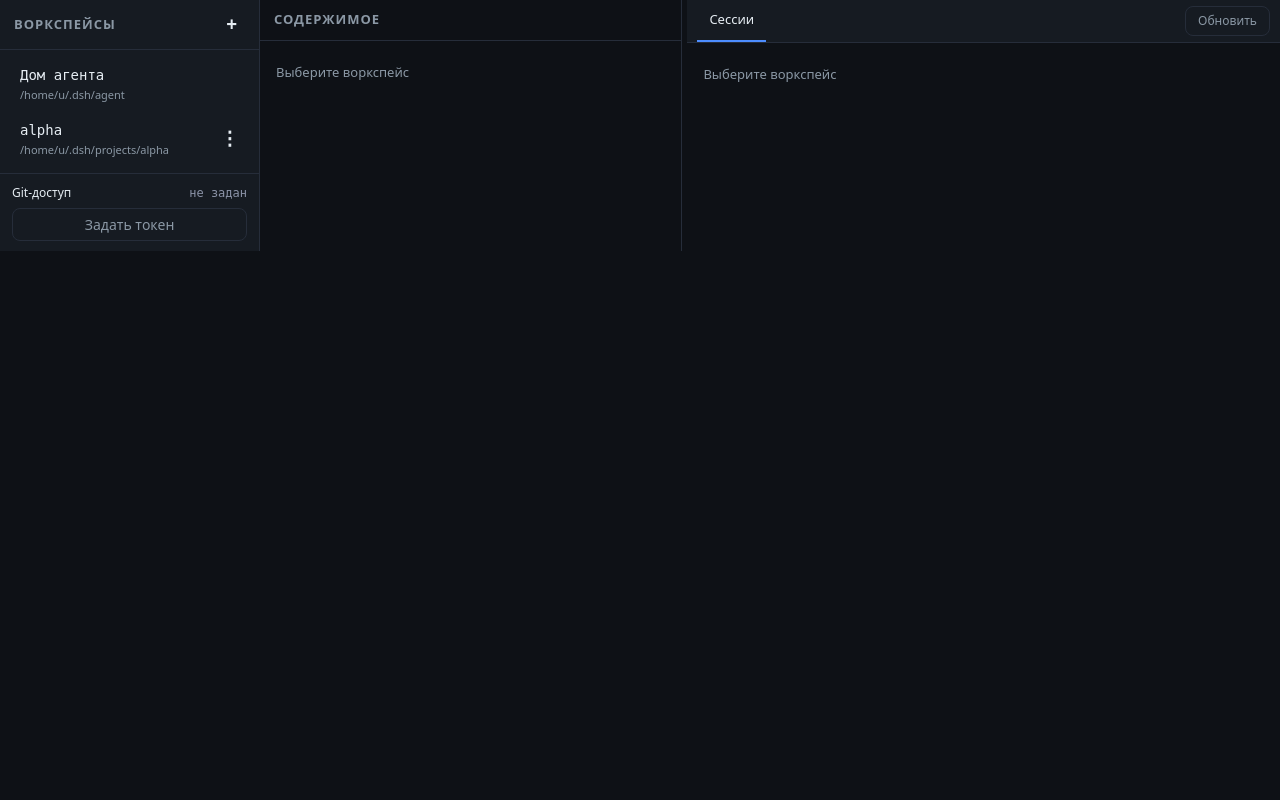
Test case: WorkspacesPage create/delete flows › deletes a project through the menu and confirm modal, deselecting it
Click the button with test id "ws-row-project:alpha" at x=107, y=139, box [8,112,206,165]
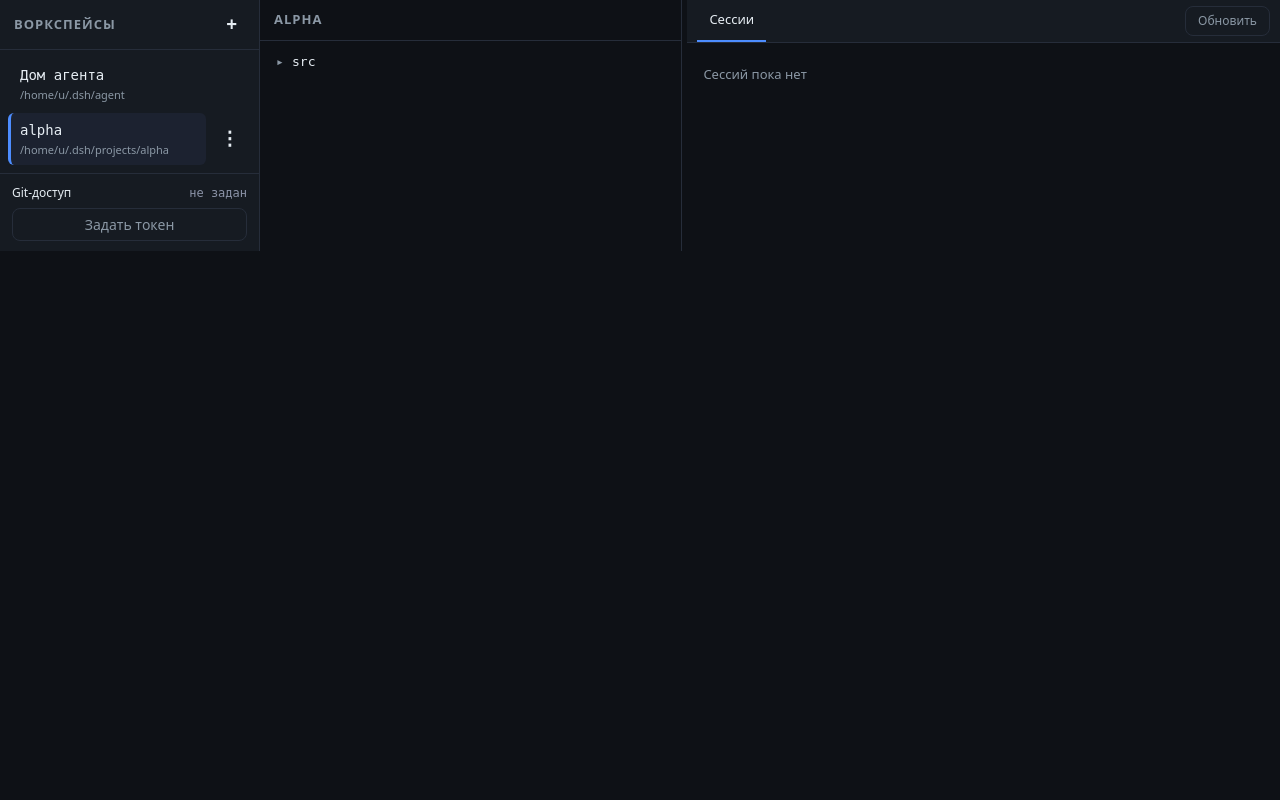
Check: the text "src" is shown, box [292,52,316,71]
Click the button with test id "ws-menu-project:alpha" at x=230, y=139, box [212,124,247,153]
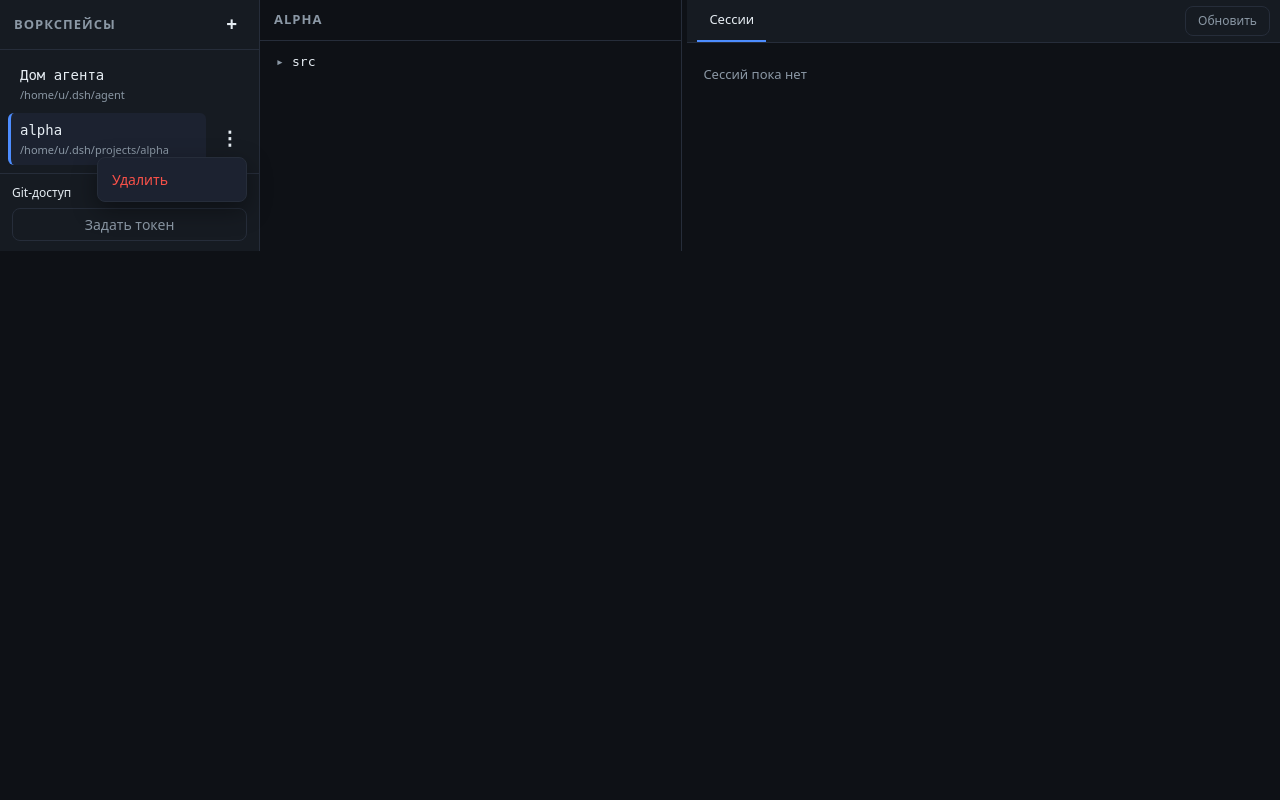
Click the button with test id "ws-delete-alpha" at x=172, y=180, box [102,162,242,197]
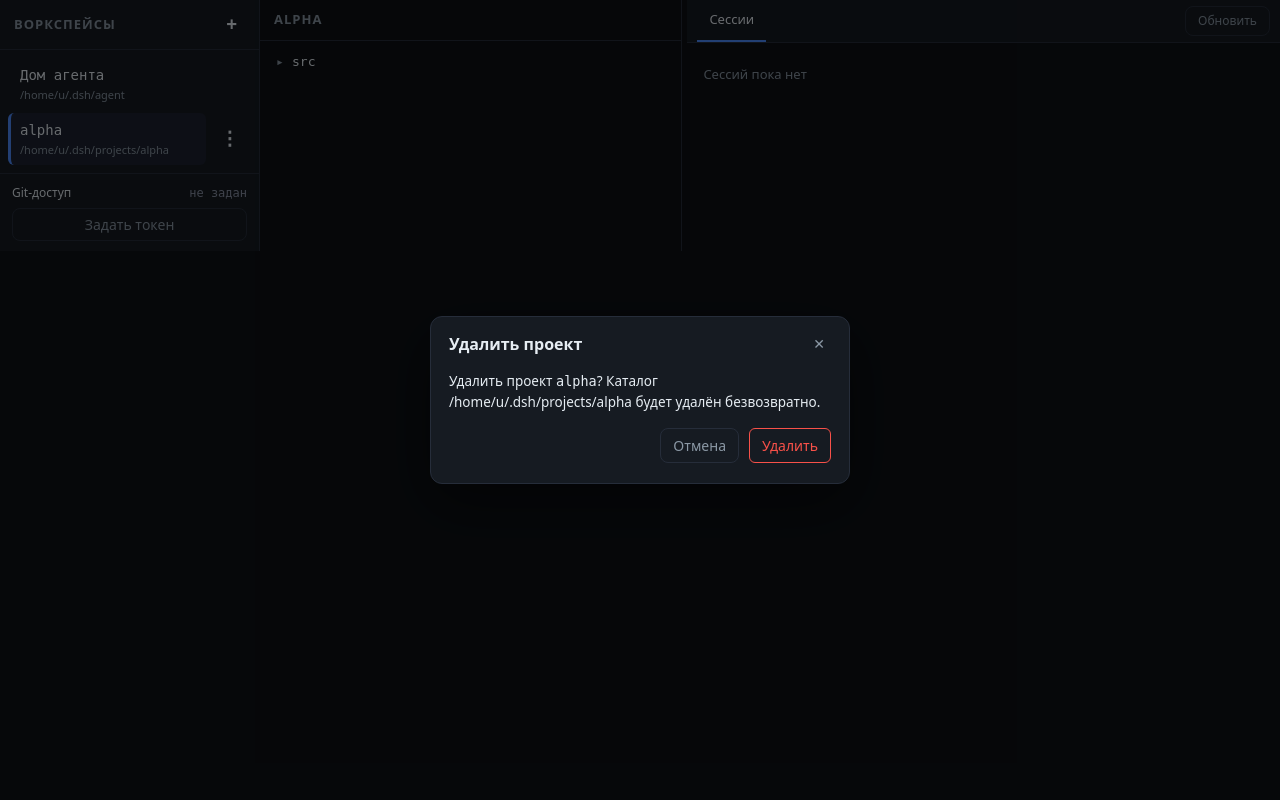
Check: the heading "Удалить проект" is shown, box [449,332,582,356]
Check: the text "безвозвратно" is shown, box [632,392,820,410]
Click the button with test id "workspace-delete-alpha" at x=790, y=445, box [749,428,831,463]
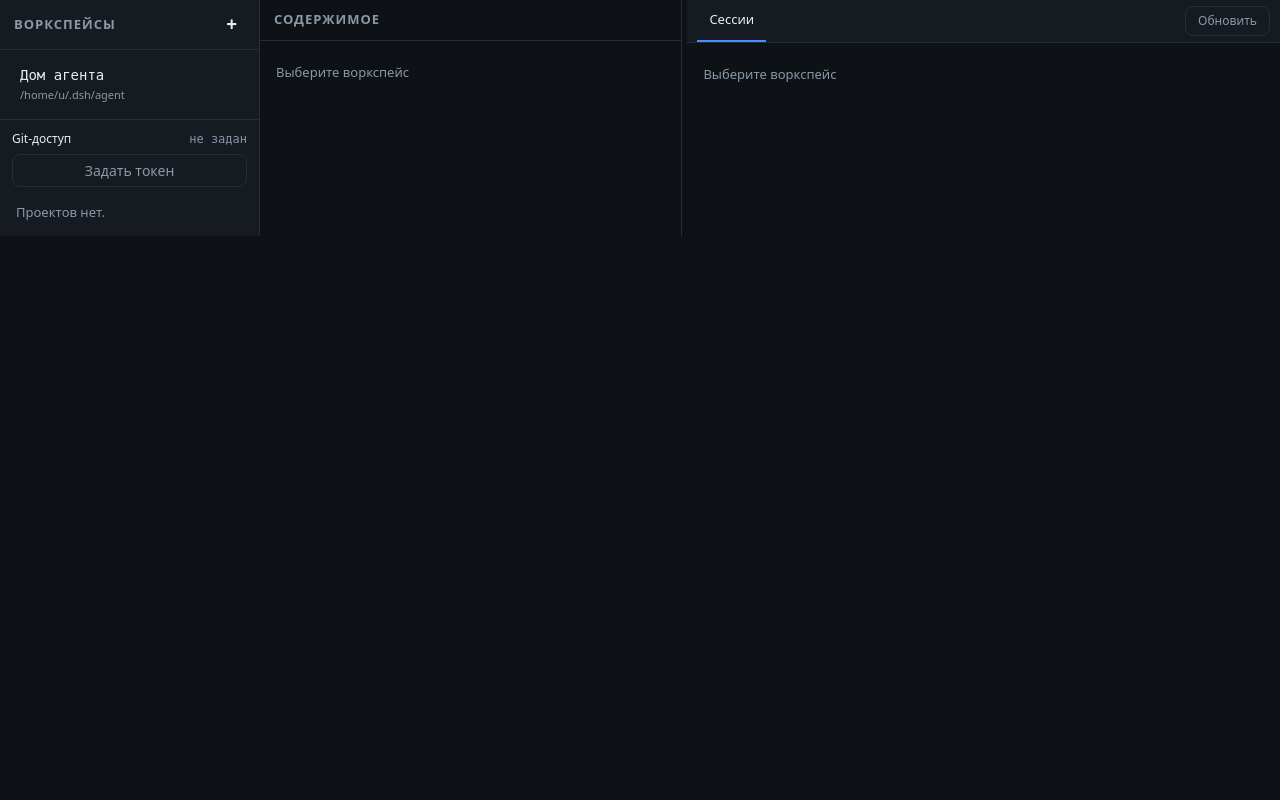
Check: the text with test id "tree-prompt" is shown, box [276,62,409,80]
